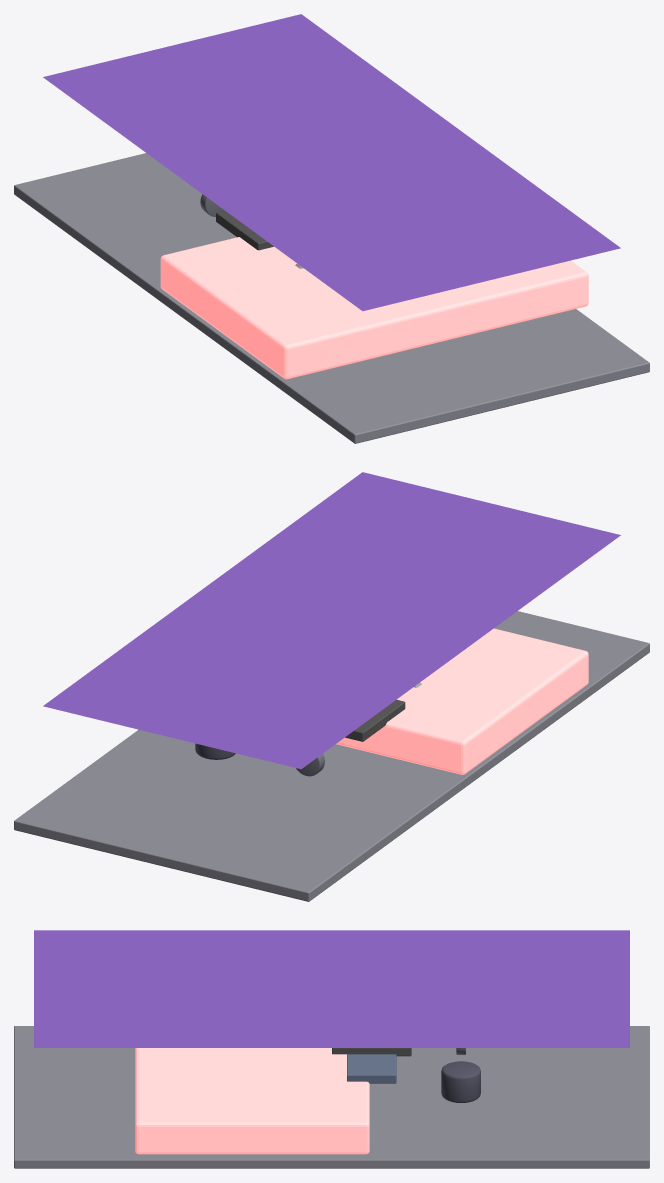
Rendered from tech_smartphone_anatomie_v1.glb.
3 renders of one model, top to bottom at view 1: azimuth 30°, elevation 25°; view 2: azimuth 150°, elevation 25°; view 3: azimuth 270°, elevation 25°, orthographic. The views are drawn at different scales.
Visible parts, largest first — view 1: screen__fault_defaillant, chassis, battery__fault_defaillant, cpu; view 2: screen__fault_defaillant, chassis, battery__fault_defaillant, cpu; view 3: screen__fault_defaillant, chassis, battery__fault_defaillant, camera, pmic, cpu.
Boxes of the visible parts, left/top/right/bottom form: screen__fault_defaillant: left=43, top=14, right=620, bottom=311; chassis: left=14, top=153, right=649, bottom=443; battery__fault_defaillant: left=160, top=237, right=588, bottom=379; cpu: left=216, top=210, right=273, bottom=250; screen__fault_defaillant: left=43, top=472, right=620, bottom=769; chassis: left=14, top=611, right=649, bottom=901; battery__fault_defaillant: left=336, top=628, right=588, bottom=774; cpu: left=345, top=699, right=405, bottom=741; screen__fault_defaillant: left=34, top=930, right=629, bottom=1047; chassis: left=14, top=1026, right=649, bottom=1168; battery__fault_defaillant: left=135, top=1048, right=369, bottom=1154; camera: left=441, top=1061, right=480, bottom=1102; pmic: left=347, top=1054, right=396, bottom=1083; cpu: left=332, top=1048, right=411, bottom=1056.
Size of the model in its own units: 3.3 by 1.28 by 6.4.
